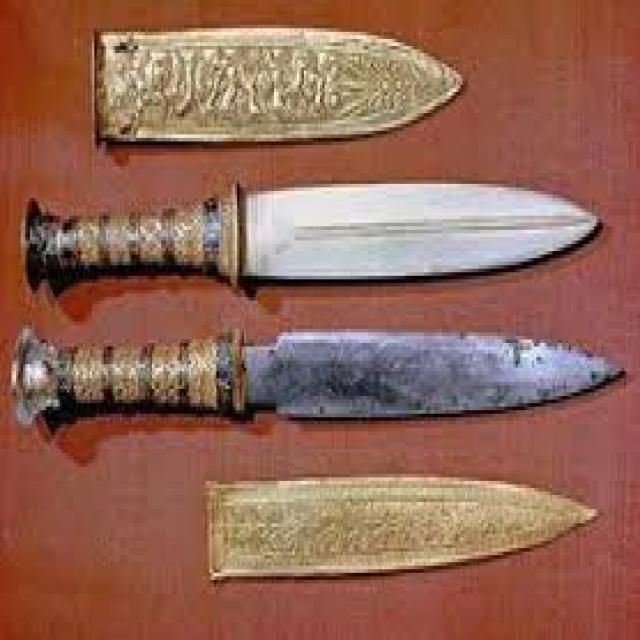Gun: (5, 314, 630, 434), (26, 178, 608, 296)
